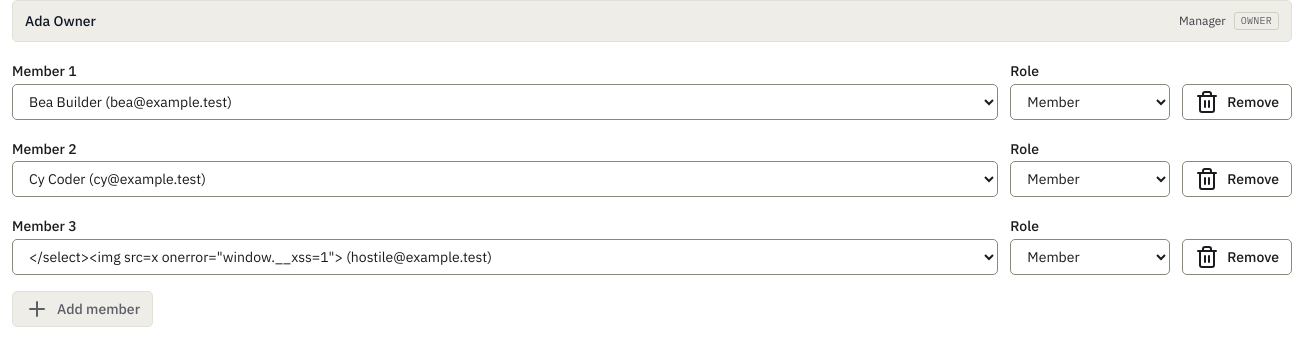
Test: disables Add member when every candidate is already used
Check: the button "Add member" is disabled, box [12,291,153,327]
Click the button with aria-label "Remove Cy Coder".
click(1237, 179)  # box [1182,161,1292,197]
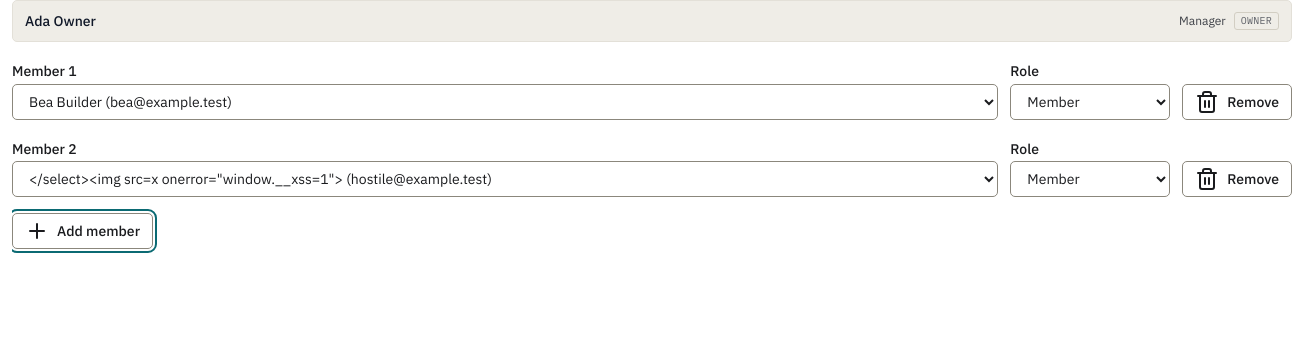
Check: the button "Add member" is enabled, box [12,213,153,249]
